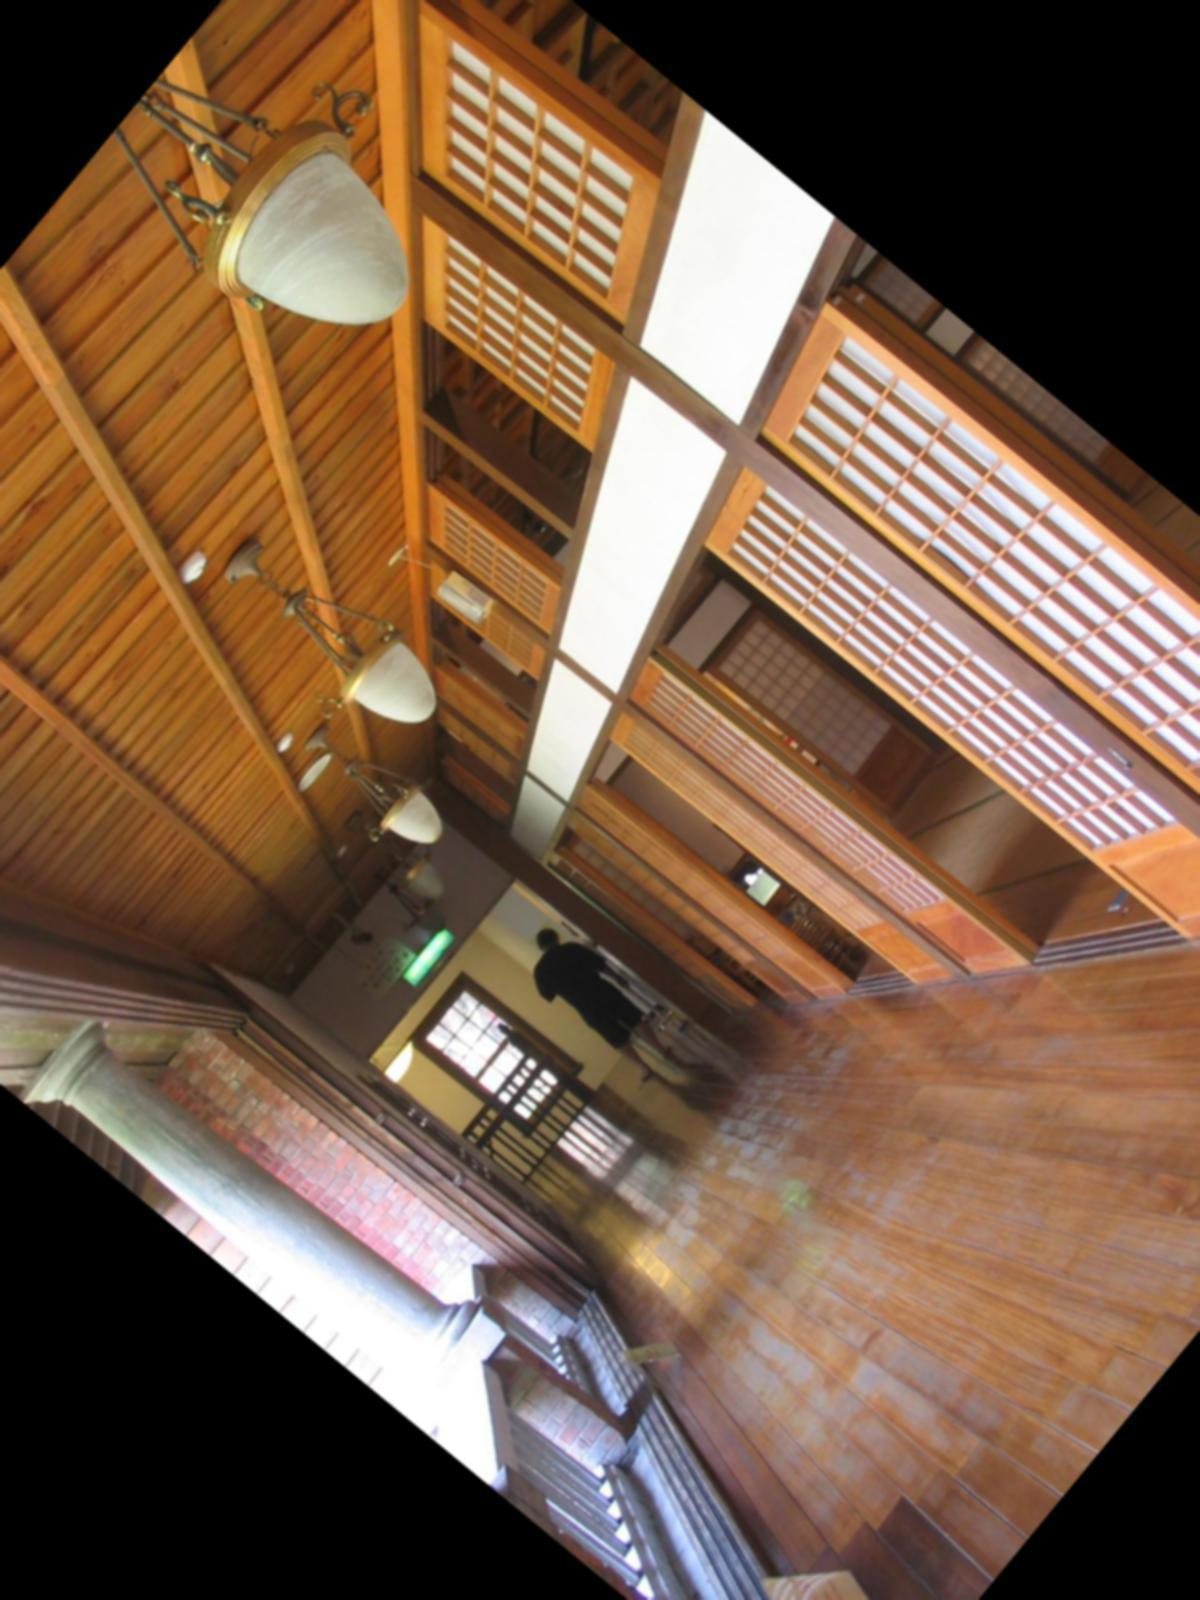Puerta: (771, 317, 1200, 985), (705, 480, 1200, 961), (634, 653, 1029, 997), (605, 709, 948, 1002), (570, 772, 848, 1013)
